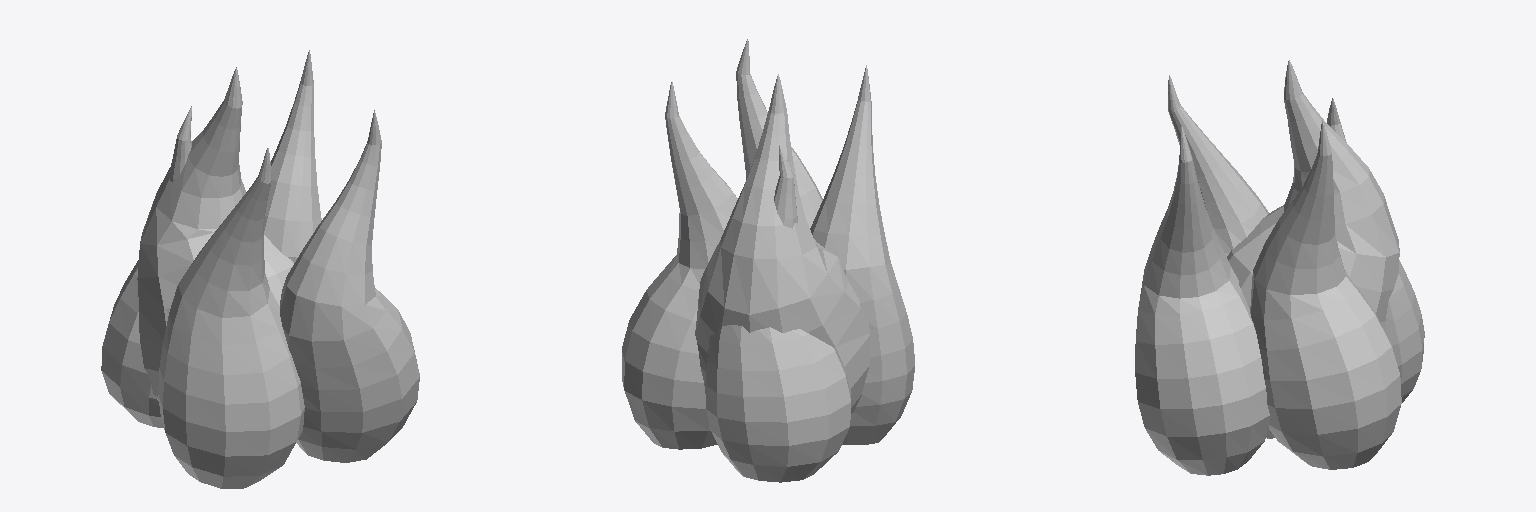
The model's file is fire_000020.obj.
3 renders of one model, left to right at view 1: azimuth 30°, elevation 25°; view 2: azimuth 150°, elevation 25°; view 3: azimuth 270°, elevation 25°, orthographic.
Visible parts, largest first — view 1: flame_NurbsPath.015; view 2: flame_NurbsPath.015; view 3: flame_NurbsPath.015.
Boxes of the visible parts, x1=… form: flame_NurbsPath.015: x1=101, y1=50, x2=419, y2=488; flame_NurbsPath.015: x1=622, y1=39, x2=914, y2=482; flame_NurbsPath.015: x1=1135, y1=60, x2=1424, y2=475.
Bounding box in the file's own units: 0.7531 × 1.17 × 0.8126.